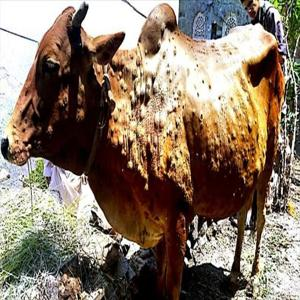lumpy skin diesease: (0, 1, 285, 299)
